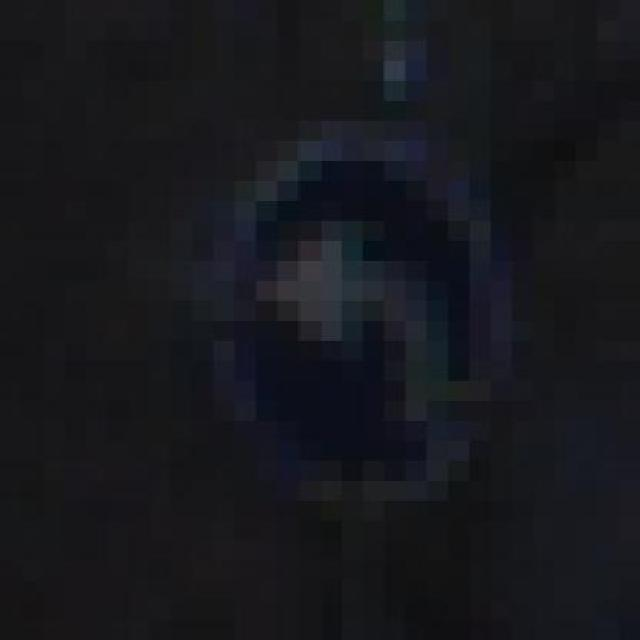Turn left ahead: (192, 80, 533, 520)
